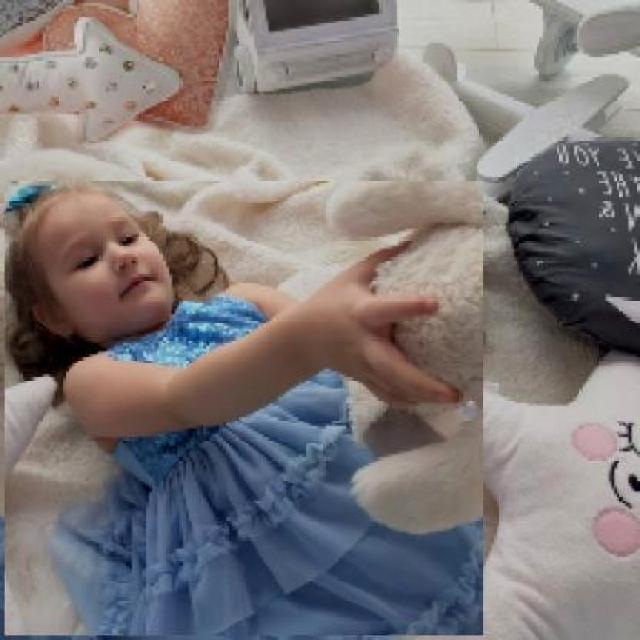child: (3, 180, 483, 637)
